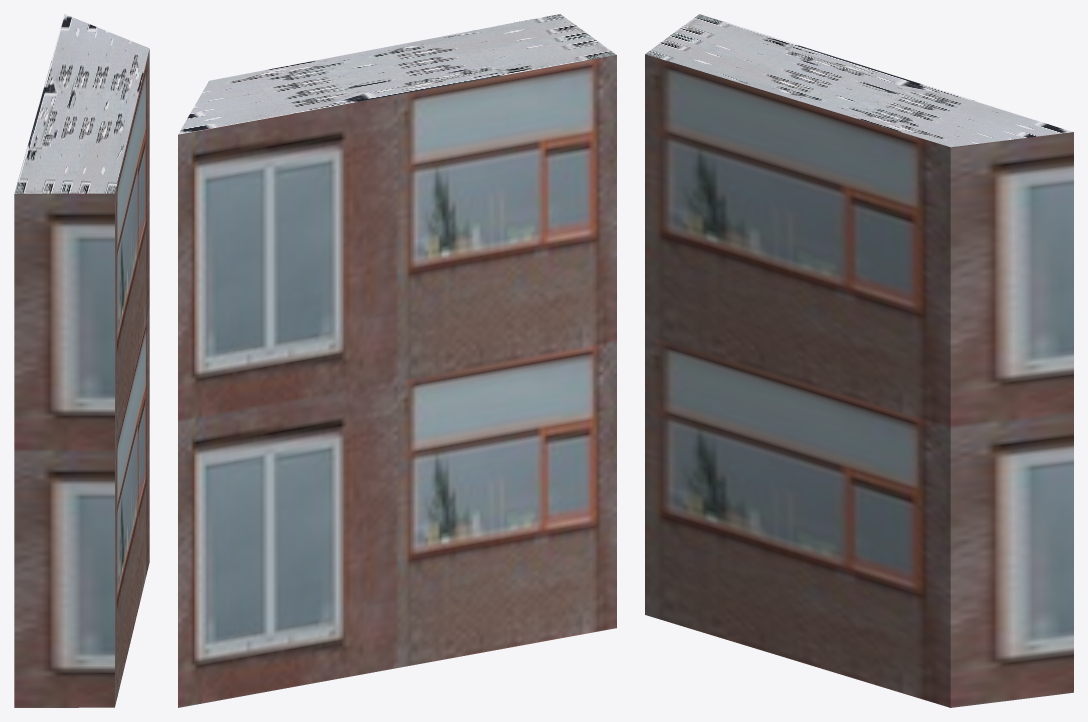
File: ResTex__5034.fbx
The picture shows the model from 3 angles, left to right: view 1: azimuth 30°, elevation 25°; view 2: azimuth 150°, elevation 25°; view 3: azimuth 270°, elevation 25°; orthographic projection. The views are drawn at different scales.
Visible parts, largest first — view 1: CityEngineMaterial_19_m, CityEngineMaterial_15_m; view 2: CityEngineMaterial_19_m, CityEngineMaterial_15_m; view 3: CityEngineMaterial_19_m, CityEngineMaterial_15_m.
Boxes of the visible parts, x1,y1,x2,y2 form: CityEngineMaterial_19_m: (14,49,149,707); CityEngineMaterial_15_m: (14,14,149,193); CityEngineMaterial_19_m: (178,55,616,707); CityEngineMaterial_15_m: (178,14,616,134); CityEngineMaterial_19_m: (645,54,1073,707); CityEngineMaterial_15_m: (645,14,1072,147).
Bounding box in the file's own units: 3.06 × 6 × 4.16.
2 materials, 2 textured.
